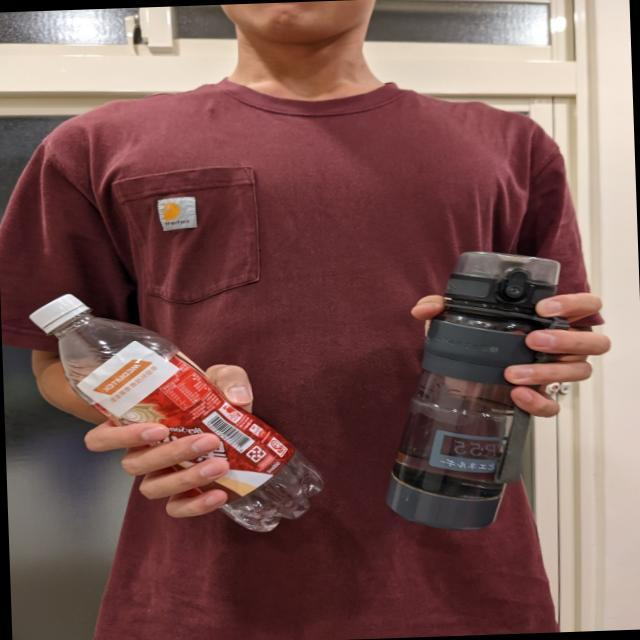good: (21, 246, 324, 538)
